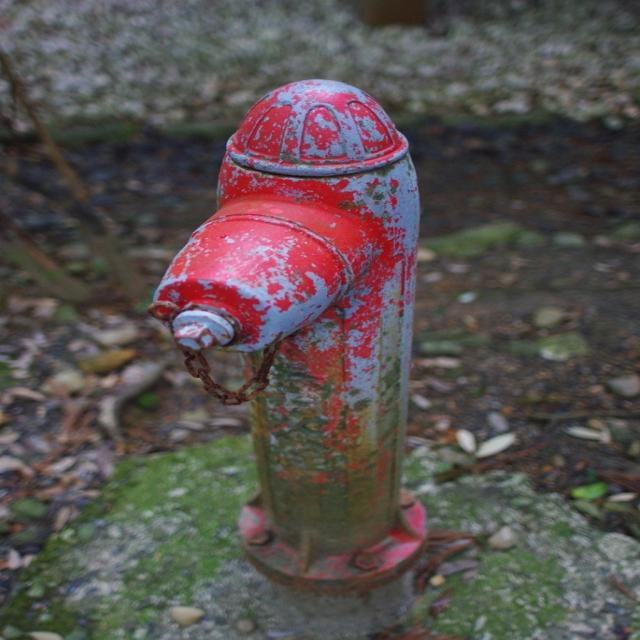fire_hydrant: (143, 78, 432, 592)
